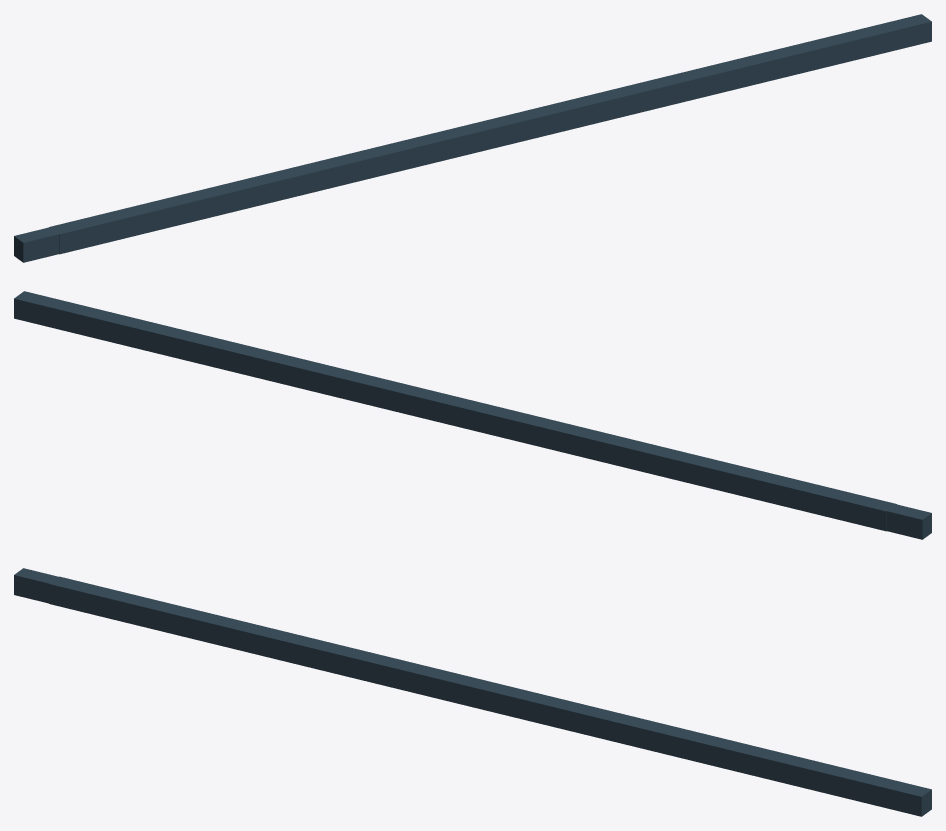
Rendered from v02-transit-world-02-03-08.glb.
3 renders of one model, top to bottom at view 1: azimuth 30°, elevation 25°; view 2: azimuth 150°, elevation 25°; view 3: azimuth 330°, elevation 25°, orthographic.
Parts seen in each view (by area): view 1: v02-transit-world-02-03-08; view 2: v02-transit-world-02-03-08; view 3: v02-transit-world-02-03-08.
Part boxes in pixels (x1,y1,x2,y2): v02-transit-world-02-03-08: [14, 14, 931, 262]; v02-transit-world-02-03-08: [14, 291, 931, 539]; v02-transit-world-02-03-08: [14, 568, 931, 816].
Size of the model in its own units: 66.59 by 1.4 by 1.3.
